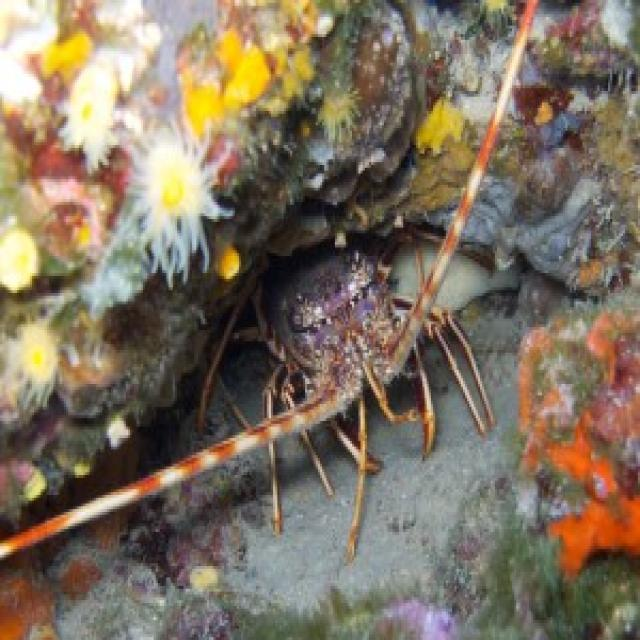lobsters: (121, 196, 609, 601)
